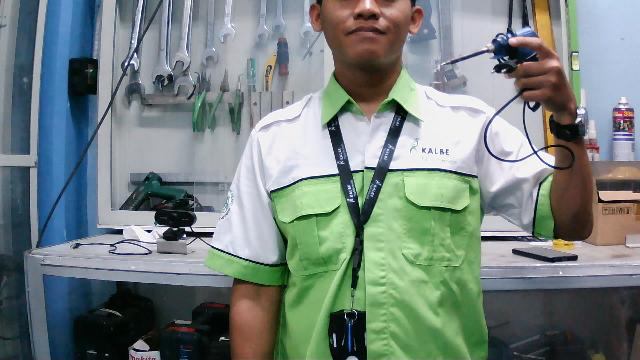solder_electrical: (437, 25, 577, 172)
